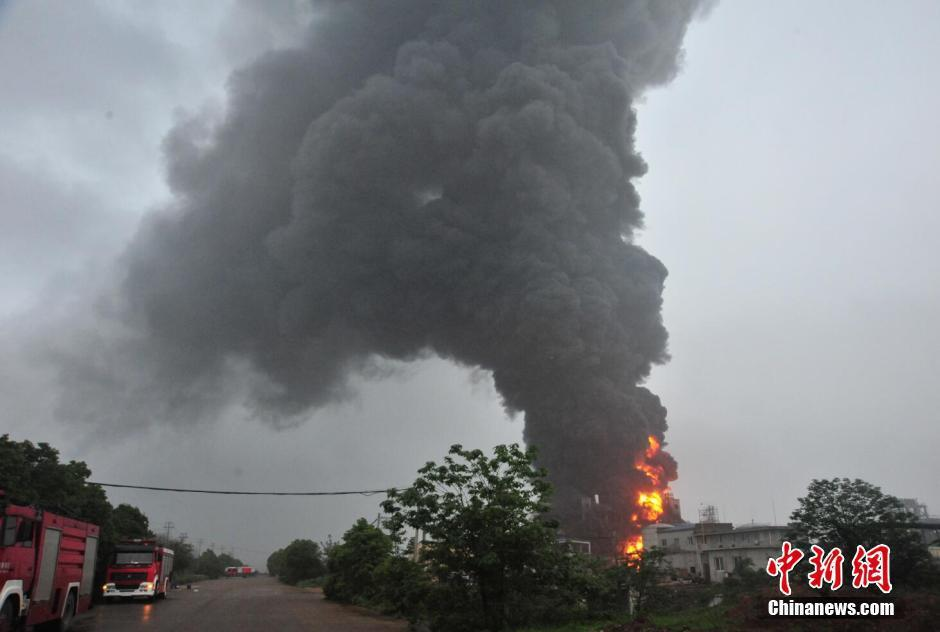fire: (621, 425, 673, 561)
